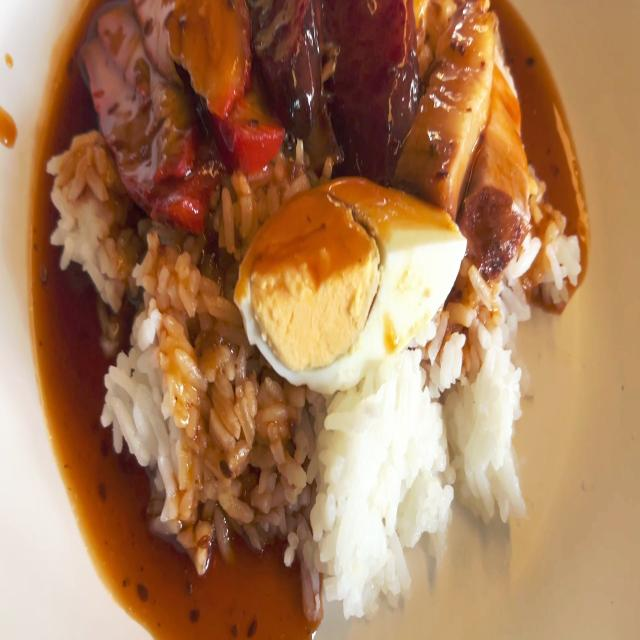boiled_egg: (242, 168, 464, 392)
chainese_sausage: (262, 2, 420, 169), (322, 0, 416, 165), (254, 0, 326, 133)
crispy_pork: (406, 0, 531, 258), (406, 4, 503, 198), (472, 58, 531, 259)
red_pork: (82, 0, 269, 215), (81, 18, 208, 220), (110, 0, 197, 176), (140, 0, 244, 112), (235, 92, 282, 171), (160, 178, 206, 228)
red_pork_and_crispy_pork: (47, 0, 578, 625)
rice: (95, 243, 242, 515), (324, 366, 438, 602), (448, 338, 535, 523), (53, 129, 132, 303), (506, 228, 579, 320)
